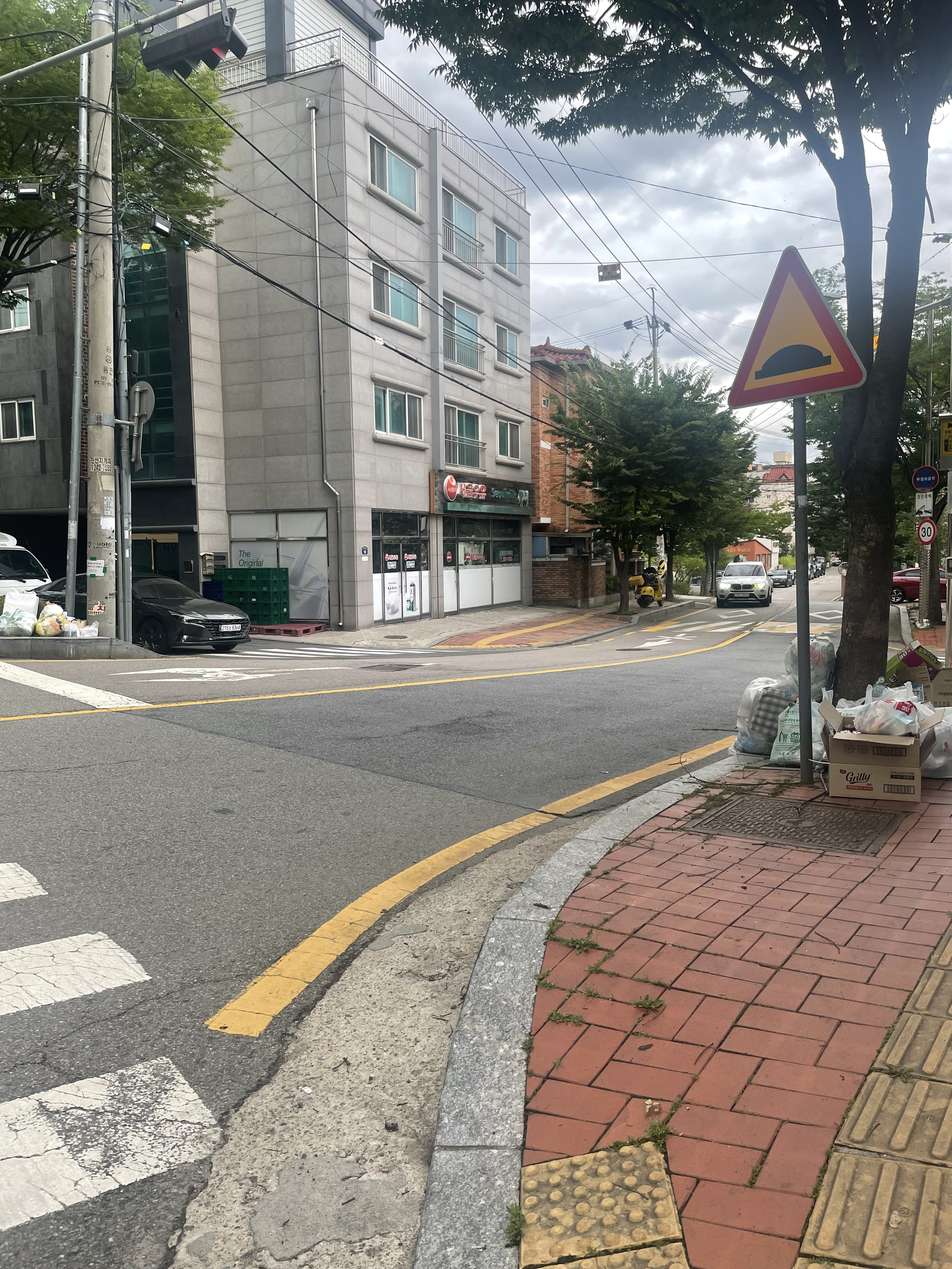car: (133, 574, 249, 652), (0, 533, 50, 595), (717, 562, 773, 607), (768, 567, 794, 588)
traffic light: (143, 8, 247, 77)
